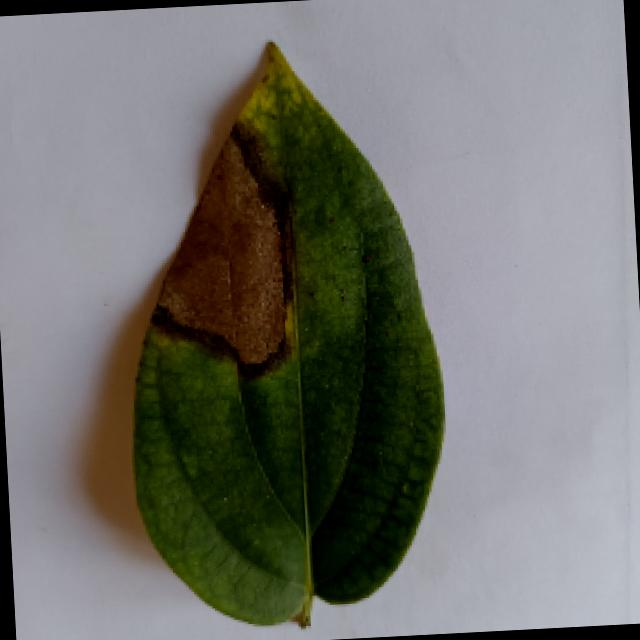footrot: (66, 30, 486, 635)
